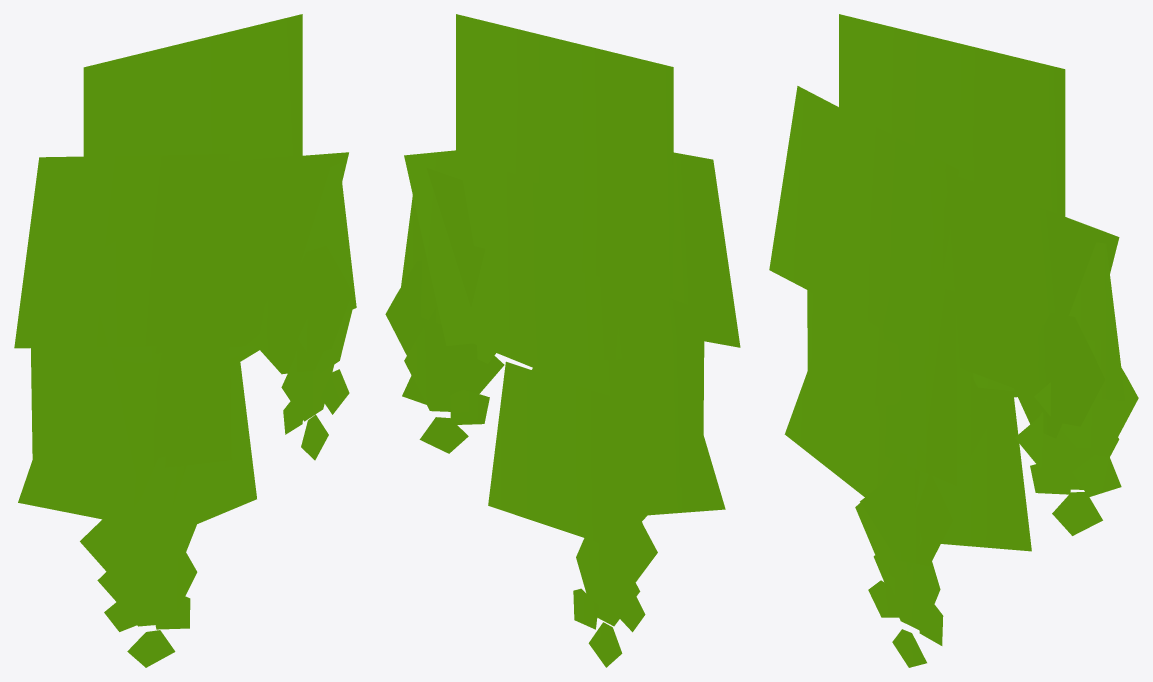
Rendered from Prop_Vine1.glb.
3 views of the same model, side by side, from view 1: azimuth 30°, elevation 25°; view 2: azimuth 150°, elevation 25°; view 3: azimuth 330°, elevation 25° (orthographic). The views are drawn at different scales.
Visible parts, largest first — view 1: Prop_Vine1; view 2: Prop_Vine1; view 3: Prop_Vine1.
Part boxes in pixels (x1,y1,x2,y2): Prop_Vine1: (14, 14, 356, 667); Prop_Vine1: (385, 14, 740, 667); Prop_Vine1: (769, 14, 1138, 667).
Size of the model in its own units: 1.54 by 2.6 by 0.219.
